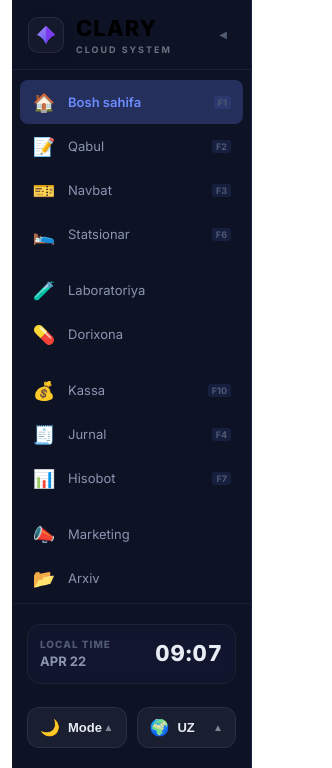
it: Sidebar — collapse toggle › toggles collapsed state when collapse button is clicked
Click the button with class "collapse-btn" at (223,34), box [211,21,235,48]
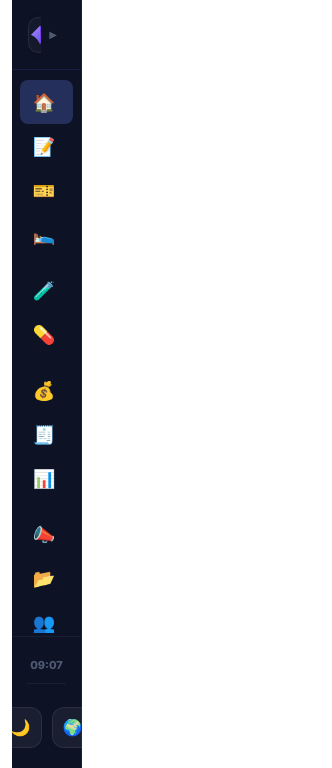
Check: the element with class "collapsed" is shown, box [12,0,82,767]
